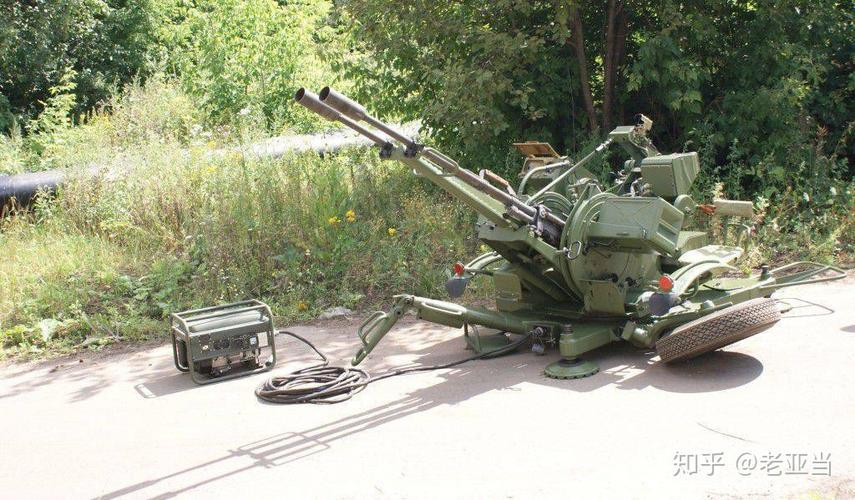MIL_SPG: (294, 87, 802, 378)
